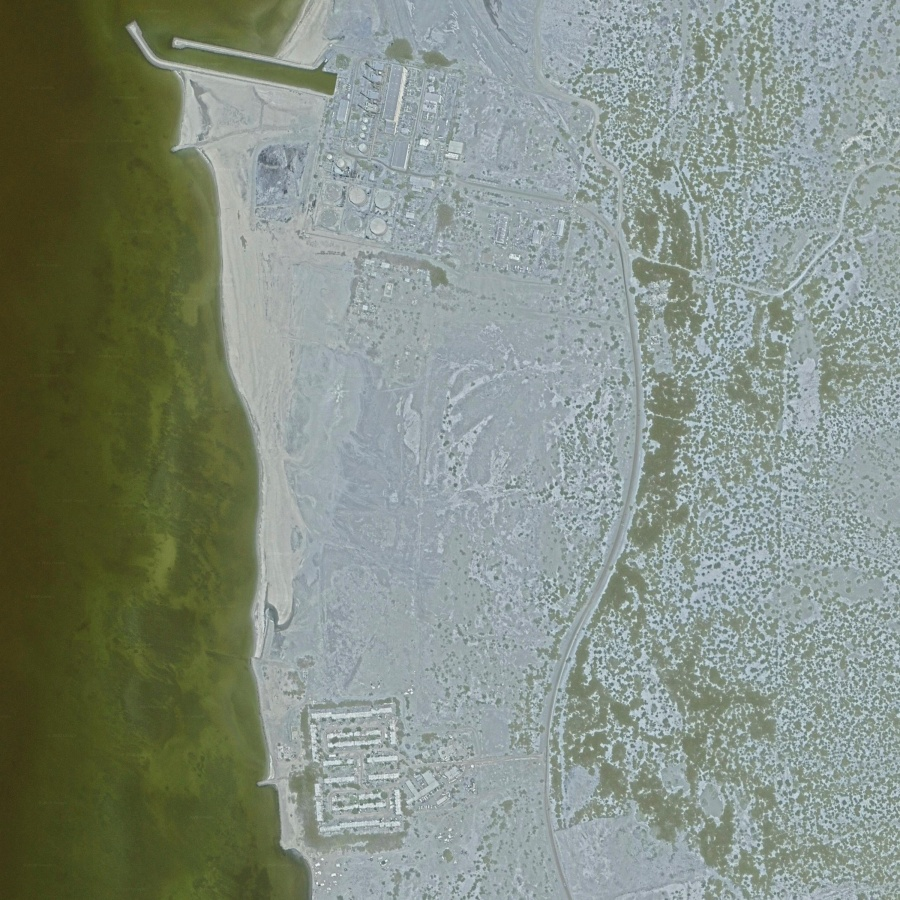PowerPlant: (244, 50, 472, 253)
